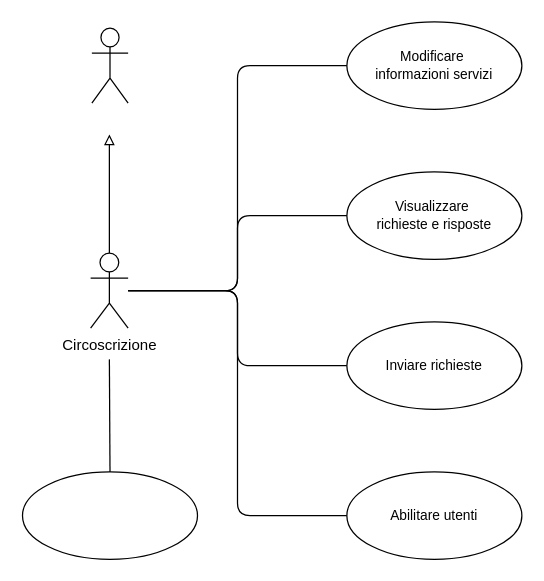
Image size: 544x581. Some labels were removed from this diagram. Each missing label, with the box of its shape:
Eseguire logout: (21, 471, 198, 559)
Utente Non Loggato: (91, 27, 128, 103)
